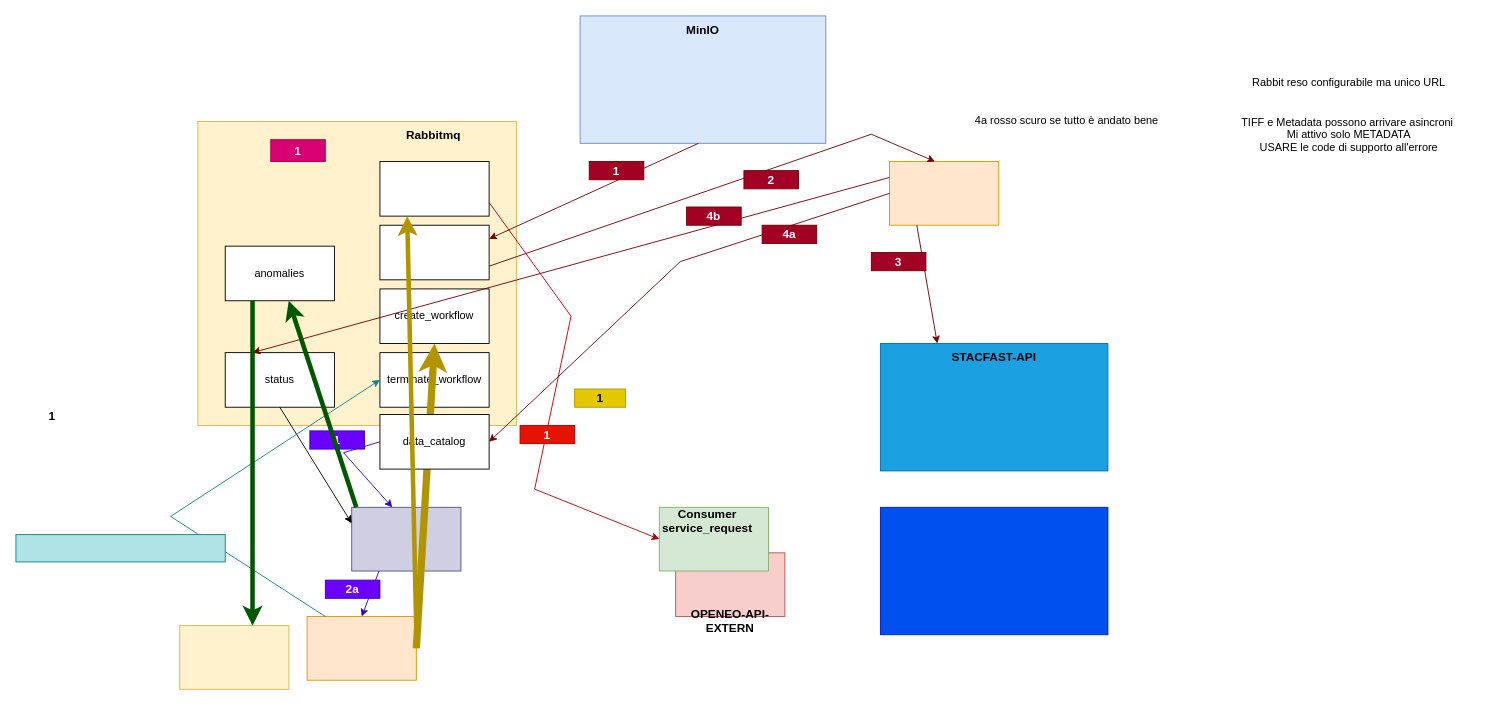
This 1497x705 diagram has some shape labels left out. Here are the shapes that lost their labels. From the top down, the centre of each, then its label:
the point at 434,188: service_request
the point at 944,193: Dataloader
the point at 434,252: data_delivered
the point at 120,548: Se tutto è finito mandi a Terminate Braint
the point at 406,538: Consumer data_delivered
the point at 730,584: URL API ATTRAVERSE SELEZIONE
the point at 994,570: PGSTAC ( DB STAC ITEMS )
the point at 234,657: anomaly detection
the point at 361,648: DJANGO
